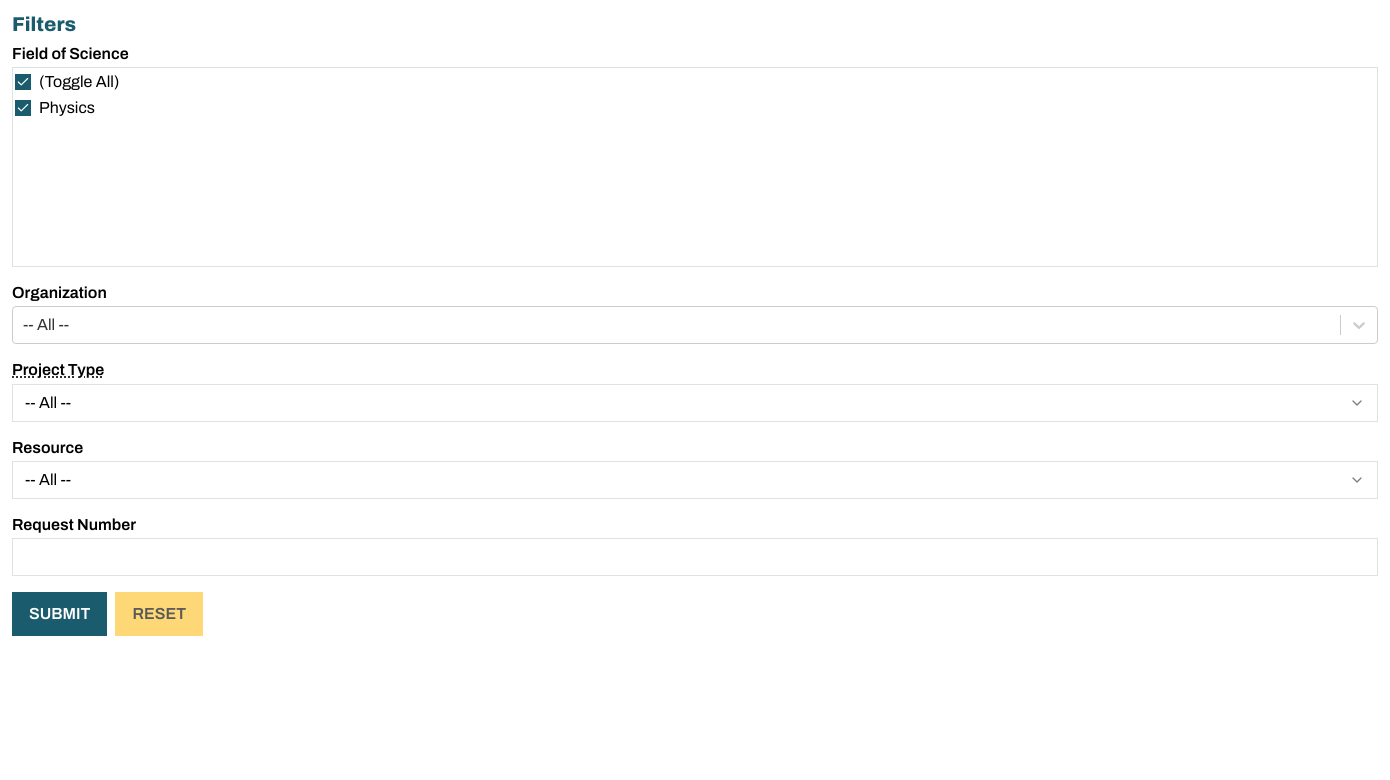
Test: Filters - organization filter › offers a '-- All --' option without putting it in the loaded org list
The image size is (1390, 780).
Click the dropdown labelled "Organization": (25, 325) 23,313 -> 26,337
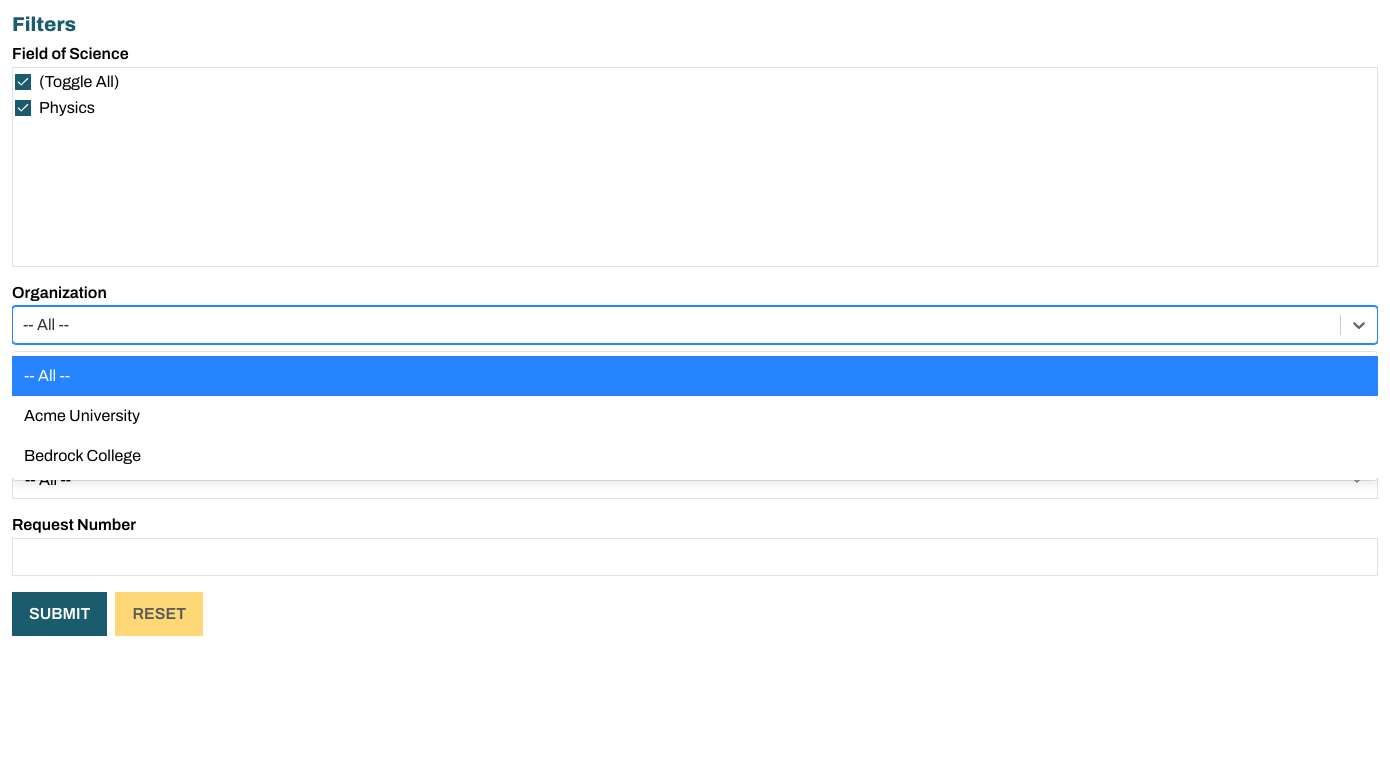
Check: the options read "-- All --", "Acme University", "Bedrock College", in this order, box 12,356 -> 1378,396; 24,407 -> 140,424; 24,447 -> 141,464
